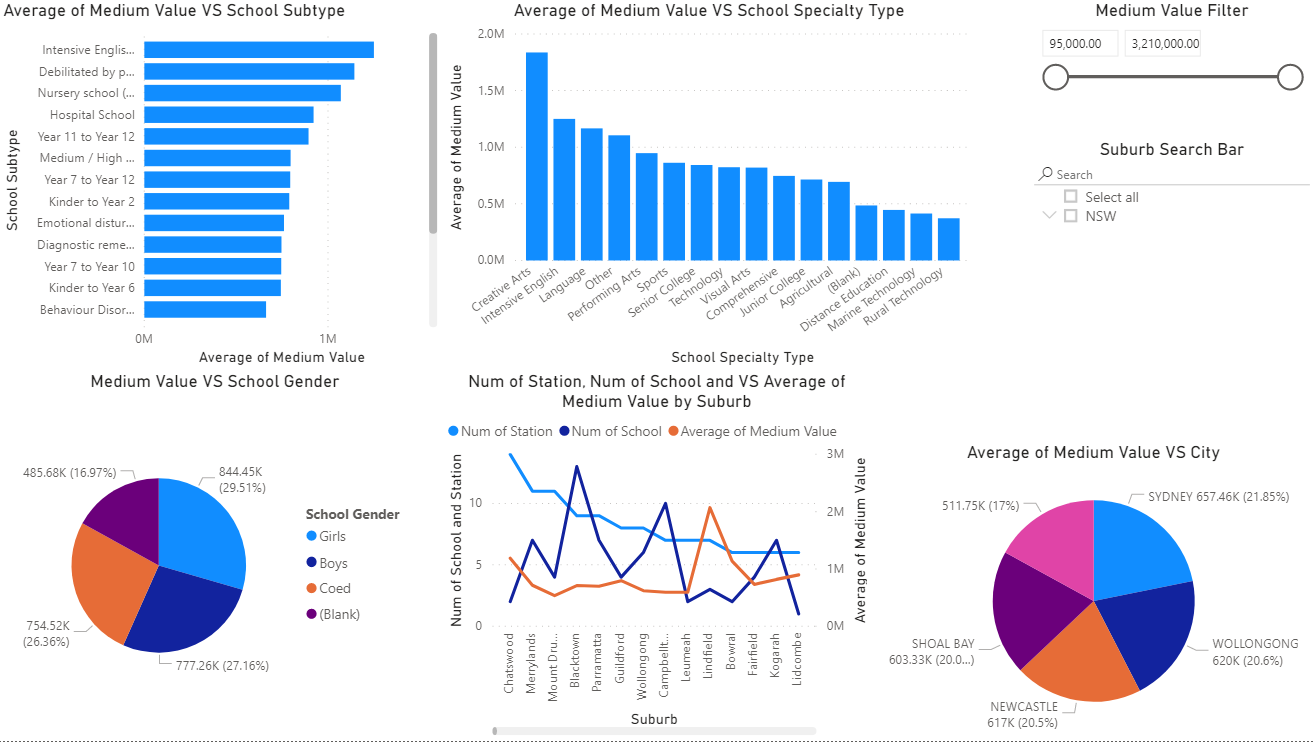

Layout of this report page (visuals, bound fields, positions):
{"tool":"powerbi","page":{"name":"Page 2","canvas":[1280,720],"ordinal":1},"visuals":[{"type":"pieChart","title":"Medium Value VS School Gender","fields":{"Category":["DimSchool.School_Gender"],"Y":["Avg(FactProperty.MediumValue)"]},"box":[9.2,360.5,404.3,359.5],"z":0},{"type":"clusteredBarChart","title":"Average of Medium Value VS School Subtype","fields":{"Y":["Avg(FactProperty.MediumValue)"],"Category":["DimSchool.School_Subtype"]},"box":[0,0,431.8,360.5],"z":1000},{"type":"clusteredColumnChart","title":"Average of Medium Value VS School Specialty Type","fields":{"Category":["DimSchool.School_Specialty_Type"],"Y":["Avg(FactProperty.MediumValue)"]},"box":[431.8,0,519.3,360.5],"z":2000},{"type":"lineChart","title":"Num of Station, Num of School and VS Average of Medium Value by Suburb","fields":{"Y2":["Avg(FactProperty.MediumValue)"],"Y":["FactProperty.NumOfStation","FactProperty.numofschool"],"Category":["DimProperty.Suburb"]},"box":[431.8,360.5,417.5,359.5],"z":3000},{"type":"pieChart","title":"Average of Medium Value VS City","fields":{"Y":["Avg(FactProperty.MediumValue)"],"Category":["DimProperty.City"]},"box":[849.3,429.7,430.7,290.2],"z":4000},{"type":"slicer","title":"Medium Value Filter","fields":{"Values":["FactProperty.MediumValue"]},"box":[1002,0,278,135.4],"z":5000},{"type":"slicer","title":"Suburb Search Bar","fields":{"Values":["DimSuburb.State_Code","DimSuburb.Suburb"]},"box":[1002,135.4,278,294.3],"z":6000}]}

Visuals, with their boxes in screenshot pixels (x1, y1, x2, y2), scaled from the page's 1280x720 canvas onto the 1313x742 screenshot:
"Medium Value VS School Gender" pieChart: crop(9, 372, 424, 741)
"Average of Medium Value VS School Subtype" clusteredBarChart: crop(0, 0, 443, 372)
"Average of Medium Value VS School Specialty Type" clusteredColumnChart: crop(443, 0, 976, 372)
"Num of Station, Num of School and VS Average of Medium Value by Suburb" lineChart: crop(443, 372, 871, 741)
"Average of Medium Value VS City" pieChart: crop(871, 443, 1312, 741)
"Medium Value Filter" slicer: crop(1028, 0, 1312, 140)
"Suburb Search Bar" slicer: crop(1028, 140, 1312, 443)
